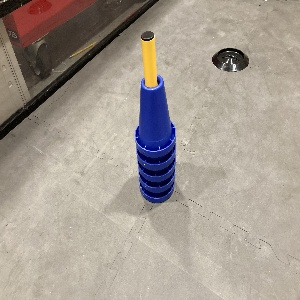Blue_5: (129, 73, 182, 206)
